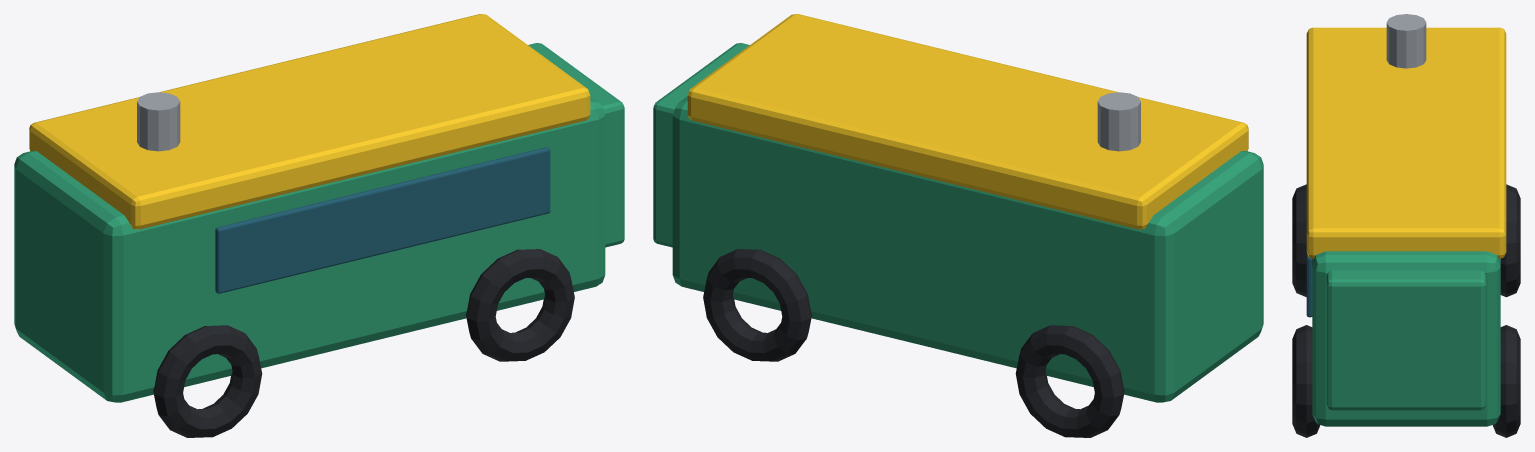
The model's file is train.glb.
3 views of the same model, side by side, from view 1: azimuth 30°, elevation 25°; view 2: azimuth 150°, elevation 25°; view 3: azimuth 270°, elevation 25° (orthographic). The views are drawn at different scales.
Parts seen in each view (by area): view 1: TrainBody, TrainRoof, Windows, Wheel, Wheel.002, TrainFront, Chimney; view 2: TrainBody, TrainRoof, Wheel.001, Wheel.003, TrainFront, Chimney; view 3: TrainRoof, TrainFront, TrainBody, Wheel.002, Wheel.003, Chimney, Wheel.001, Wheel, Windows.
Boxes of the visible parts, <box> form: TrainBody: <box>14,96,605,402</box>; TrainRoof: <box>29,14,590,229</box>; Windows: <box>215,147,550,293</box>; Wheel: <box>153,325,262,437</box>; Wheel.002: <box>466,249,574,361</box>; TrainFront: <box>528,43,624,247</box>; Chimney: <box>137,92,180,151</box>; TrainBody: <box>672,96,1263,402</box>; TrainRoof: <box>687,14,1248,229</box>; Wheel.001: <box>1015,325,1124,437</box>; Wheel.003: <box>703,249,811,361</box>; TrainFront: <box>653,43,749,247</box>; Chimney: <box>1097,92,1140,151</box>; TrainRoof: <box>1306,27,1506,258</box>; TrainFront: <box>1326,270,1486,410</box>; TrainBody: <box>1312,251,1500,426</box>; Wheel.002: <box>1292,325,1320,437</box>; Wheel.003: <box>1492,325,1520,437</box>; Chimney: <box>1386,14,1426,68</box>; Wheel.001: <box>1500,184,1520,297</box>; Wheel: <box>1292,184,1306,296</box>; Windows: <box>1306,253,1312,317</box>.
Bounding box in the file's own units: 5.03 × 2.7 × 2.06.
